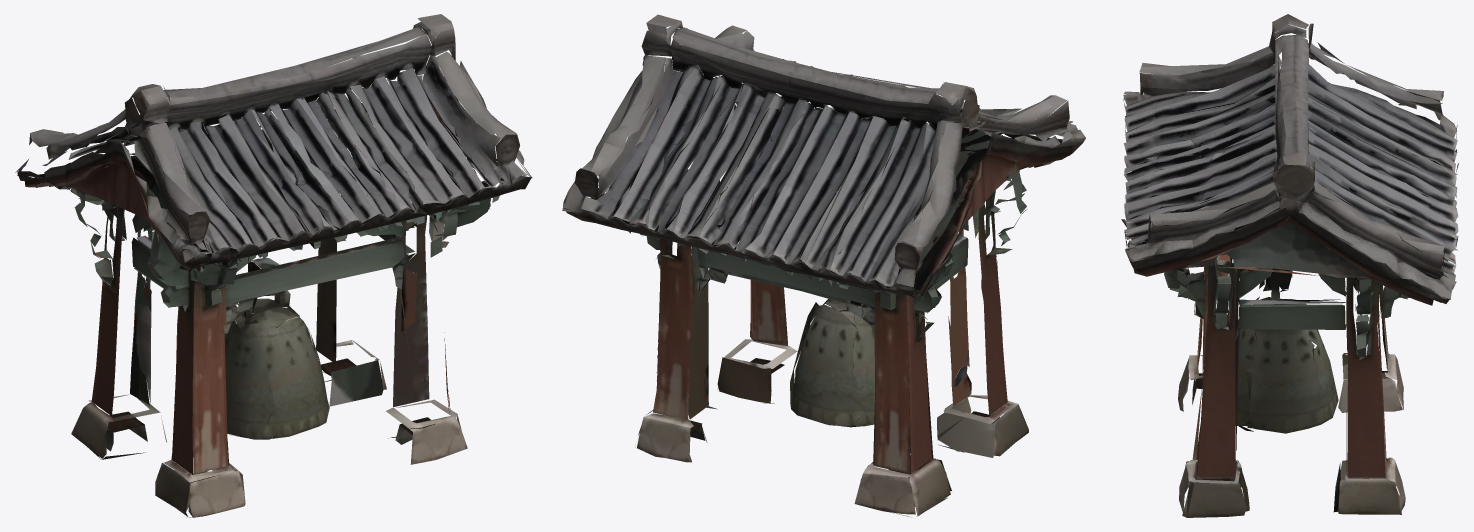
File: bellGate.glb
The picture shows the model from 3 angles, left to right: view 1: azimuth 30°, elevation 25°; view 2: azimuth 150°, elevation 25°; view 3: azimuth 270°, elevation 25°; orthographic projection. The views are drawn at different scales.
Parts seen in each view (by area): view 1: Prop_bellGate; view 2: Prop_bellGate; view 3: Prop_bellGate.
Boxes of the visible parts, left/top/right/bottom form: Prop_bellGate: left=15, top=14, right=532, bottom=517; Prop_bellGate: left=562, top=14, right=1085, bottom=517; Prop_bellGate: left=1121, top=14, right=1458, bottom=517.
Size of the model in its own units: 5.99 by 6.03 by 4.98.
Materials: 1 (1 with a texture image).
